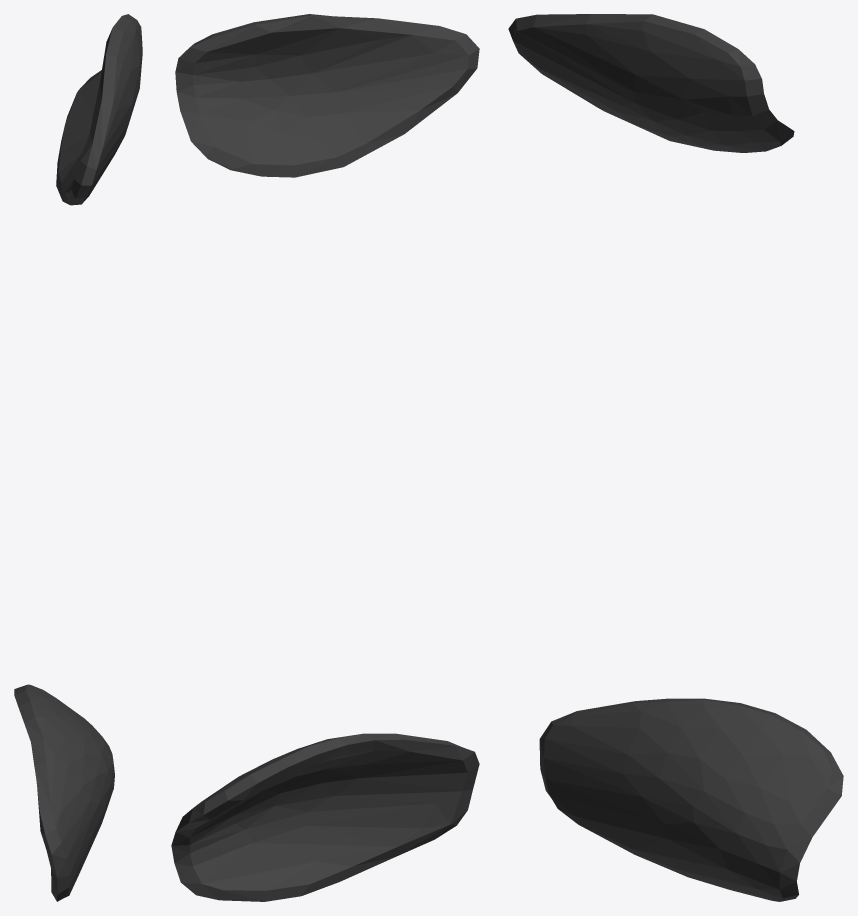
The model's file is Pelvis_caudal_dorsal_iliac_spine.glb.
The picture shows the model from 3 angles, left to right: view 1: azimuth 30°, elevation 25°; view 2: azimuth 150°, elevation 25°; view 3: azimuth 270°, elevation 25°; orthographic projection. The views are drawn at different scales.
Visible parts, largest first — view 1: Pelvis_caudal_dorsal_iliac_spine; view 2: Pelvis_caudal_dorsal_iliac_spine; view 3: Pelvis_caudal_dorsal_iliac_spine.
Boxes of the visible parts, x1,y1,x2,y2 form: Pelvis_caudal_dorsal_iliac_spine: (14, 14, 142, 901); Pelvis_caudal_dorsal_iliac_spine: (171, 14, 479, 901); Pelvis_caudal_dorsal_iliac_spine: (508, 14, 843, 901).
Size of the model in its own units: 0.6556 by 2.74 by 0.9481.
1 material, 1 textured.
